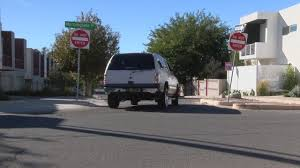doNotEnter: (69, 25, 92, 51), (230, 31, 248, 53)
oneWay: (233, 23, 246, 30)
